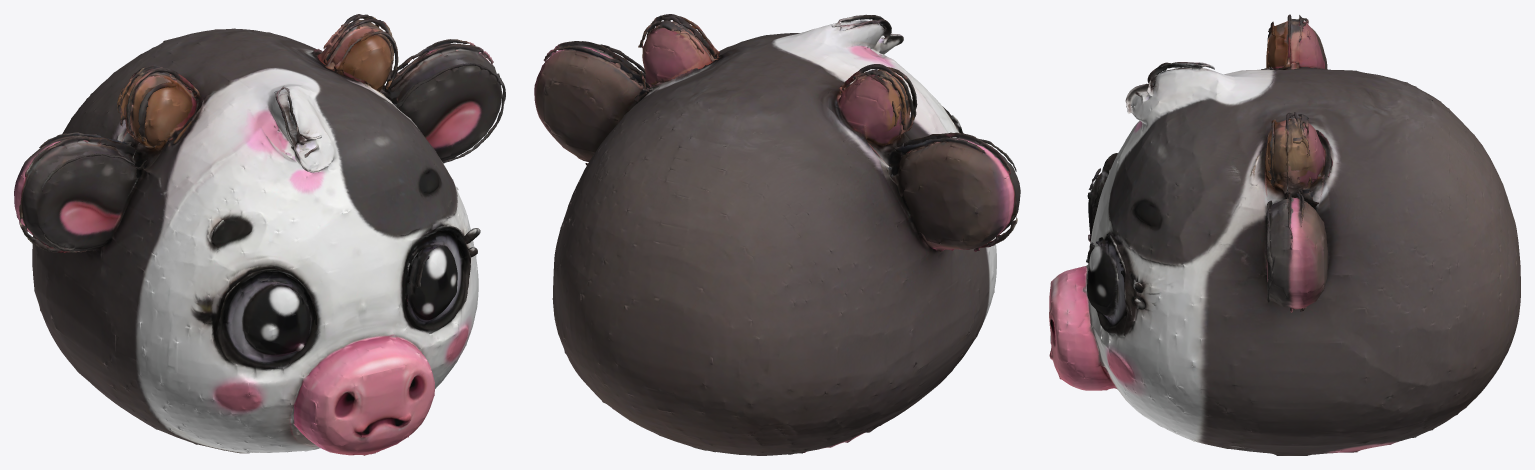
The model's file is cow.glb.
3 renders of one model, left to right at view 1: azimuth 30°, elevation 25°; view 2: azimuth 150°, elevation 25°; view 3: azimuth 270°, elevation 25°, orthographic. The views are drawn at different scales.
Bounding box in the file's own units: 1.98 × 1.48 × 1.77.
1 material, 1 textured.
